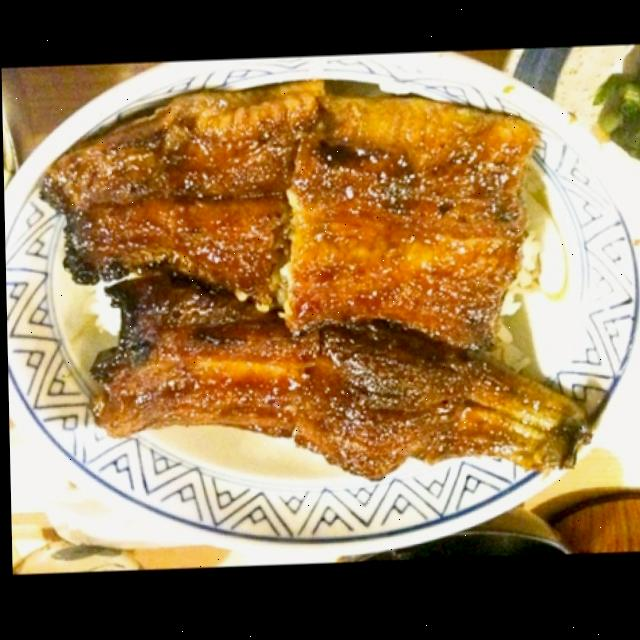熟制海鲜: (1, 62, 636, 553)
